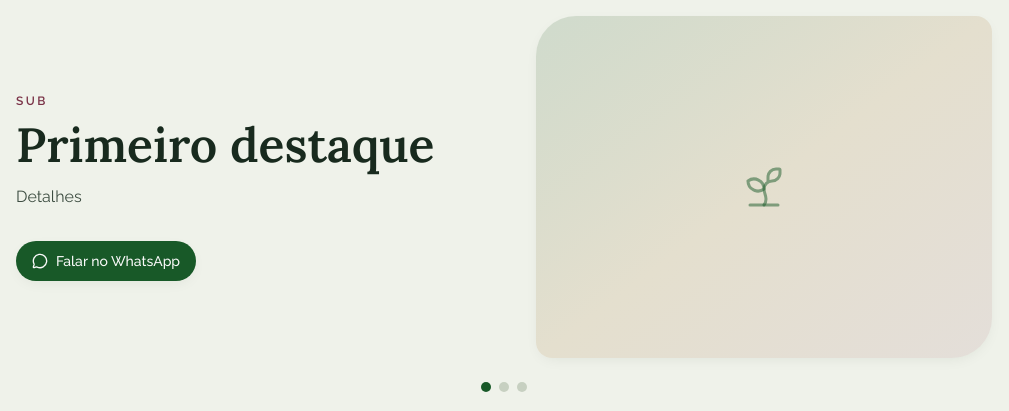
HeroCarousel › clicking an indicator switches to that slide
This screenshot has width=1009, height=411.
Click the button named "Ver destaque 3 de 3". click: click(522, 387)
box: top-left (517, 382), bottom-right (527, 392)
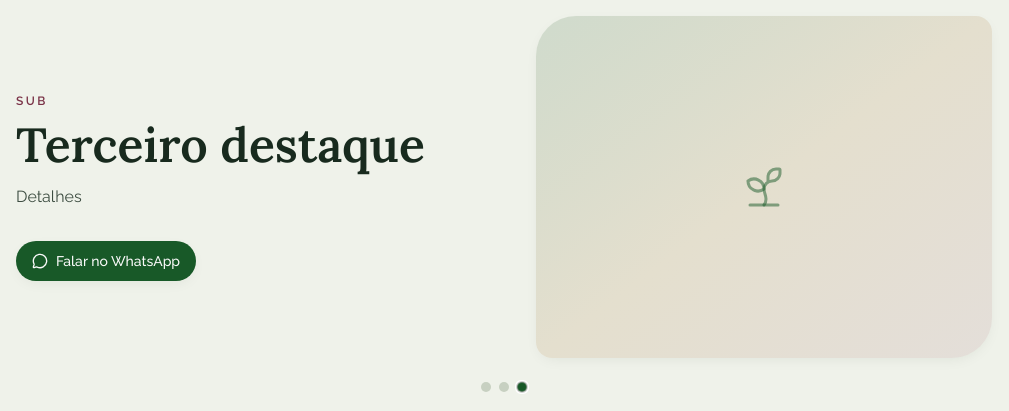
Check: the heading reads "Terceiro destaque", box top-left (16, 114), bottom-right (425, 175)
